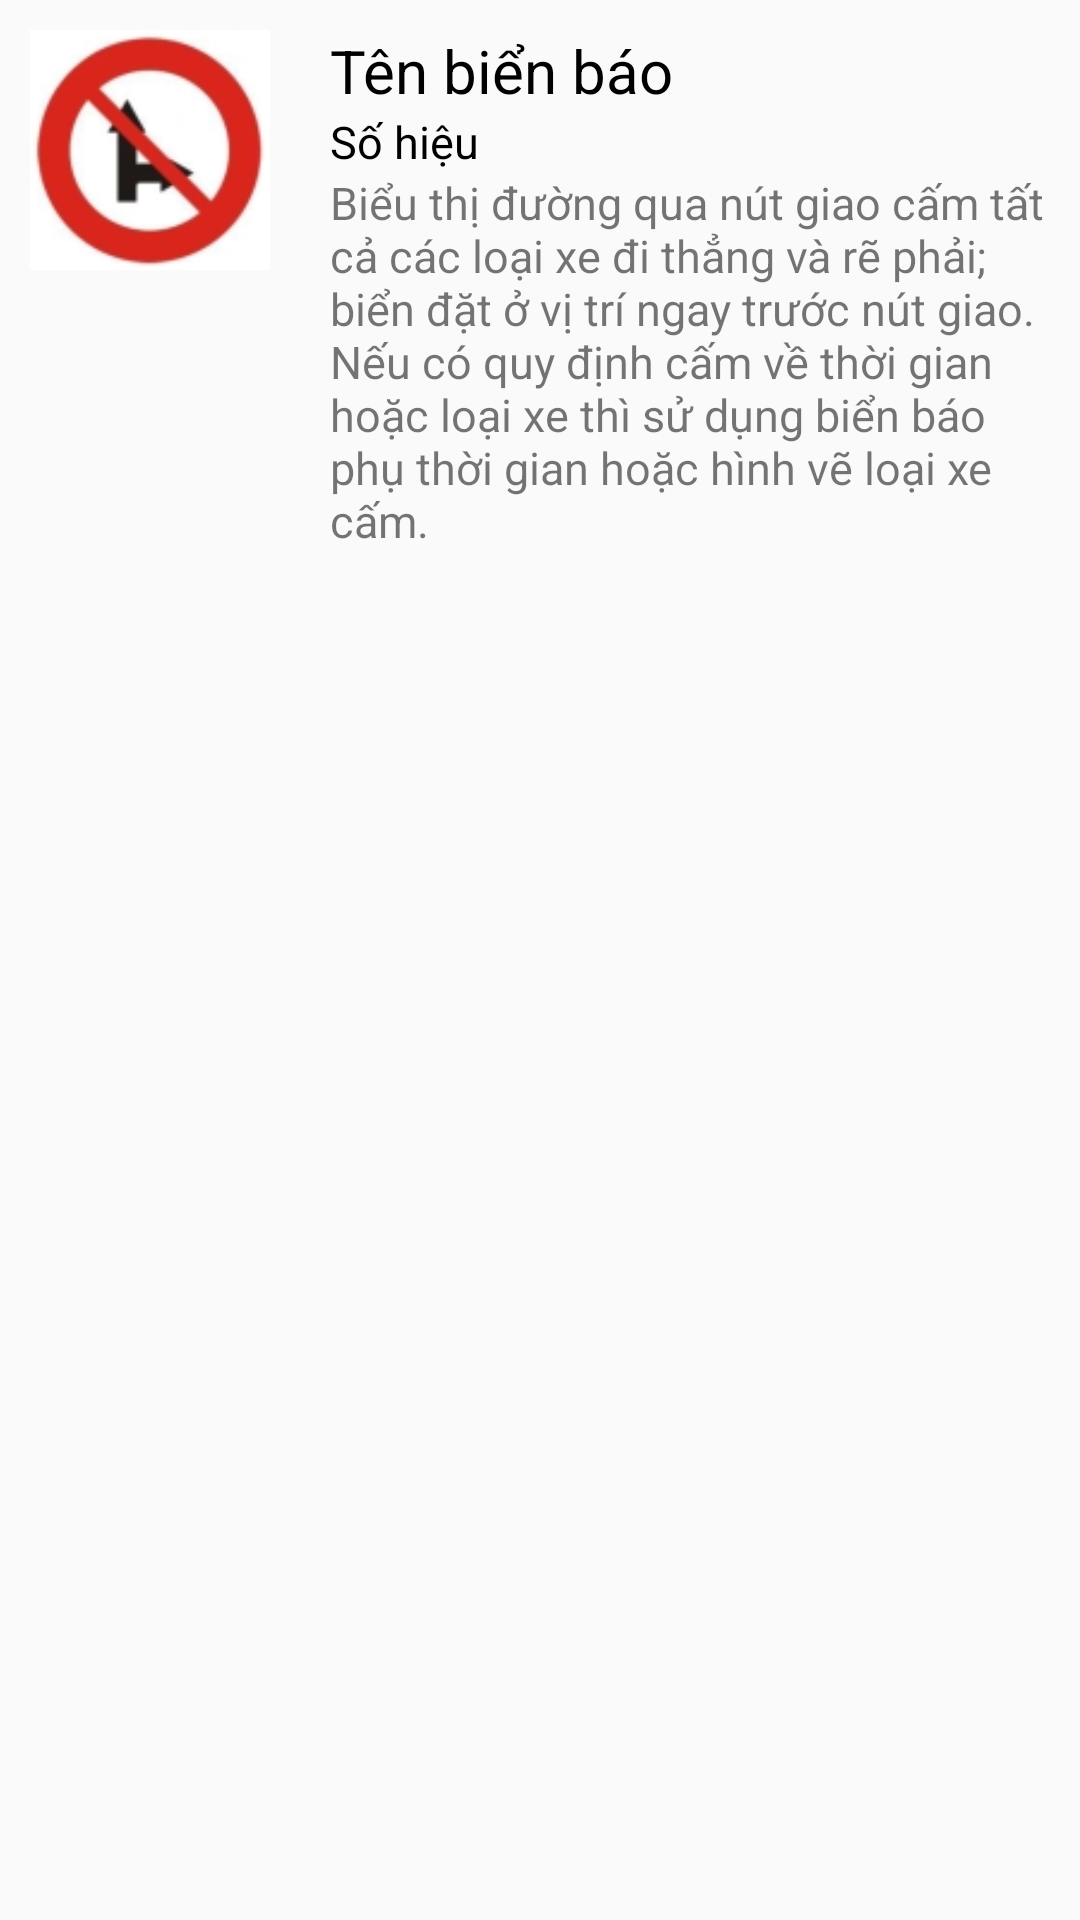

Icons on this 1080px×1920px Android screen, each with its box as (x1, y1, x2, y2):
camdithangvarephai: (36, 36, 263, 266)
